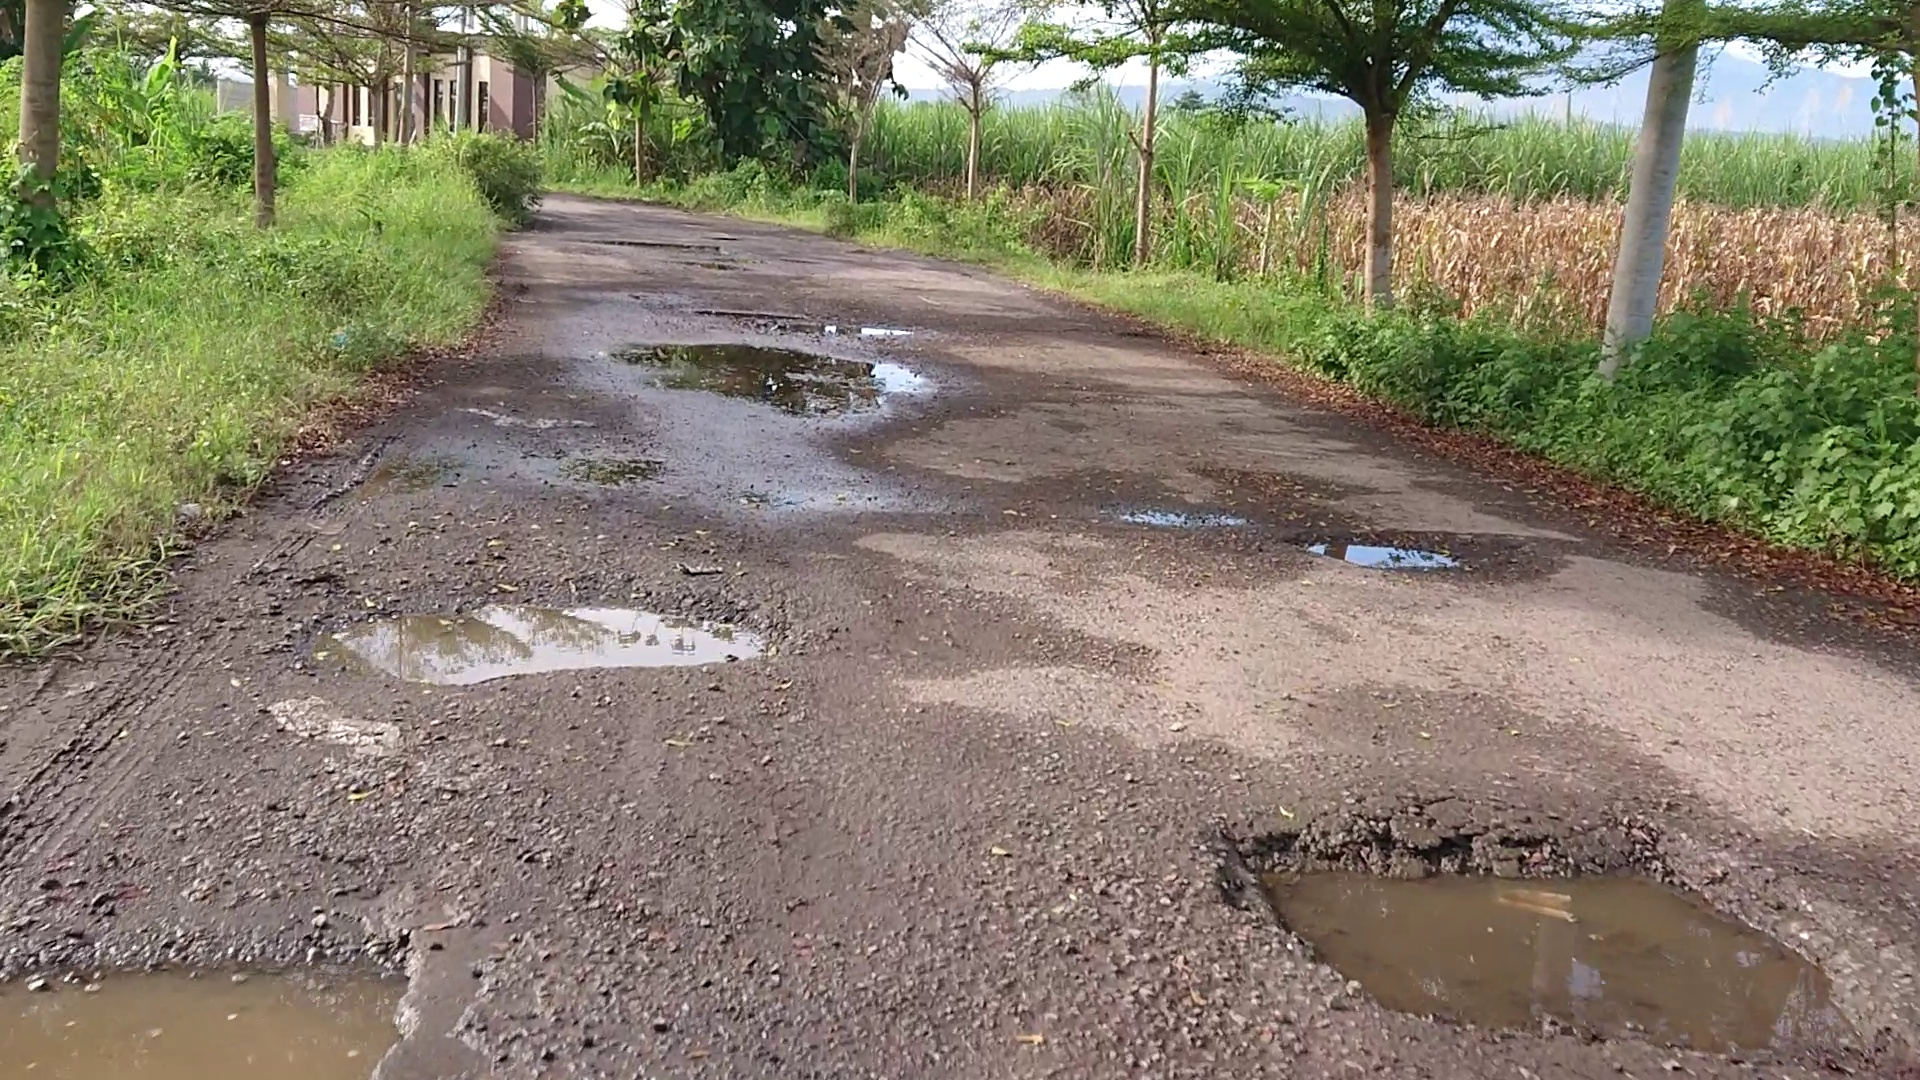Berlubang: (1258, 870, 1799, 1050), (1, 948, 436, 1080), (343, 609, 771, 673), (603, 345, 931, 423), (1304, 524, 1458, 572)
